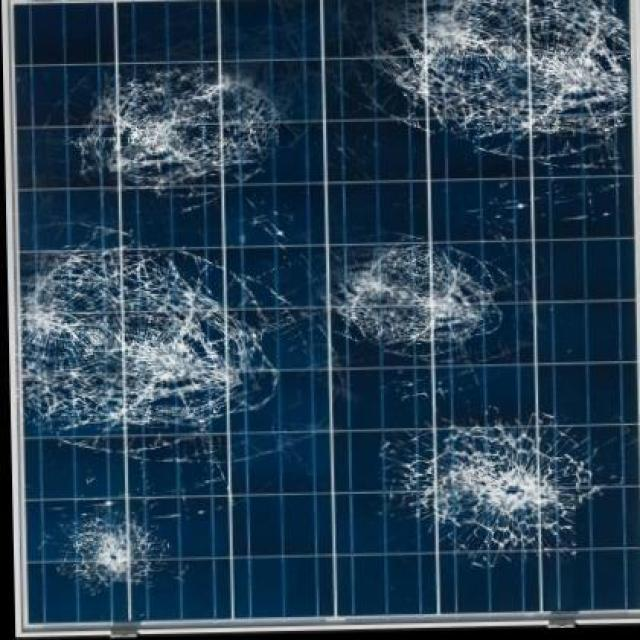cracked: (7, 1, 640, 627)
